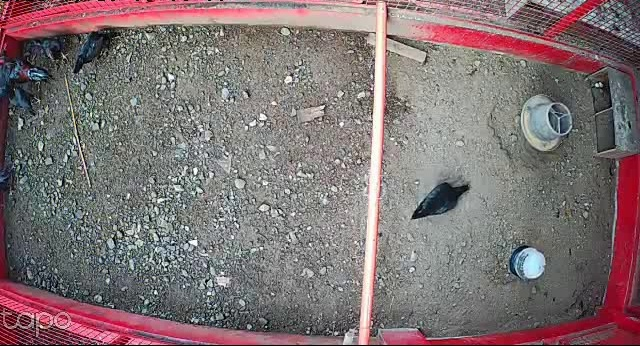Chicken: (408, 180, 472, 222), (69, 26, 122, 74), (0, 83, 48, 116), (31, 36, 73, 65)
Drinker: (509, 245, 546, 280)
Feeder: (520, 89, 572, 156)
Rooster: (0, 53, 58, 85)
